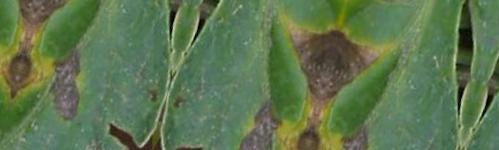Tomato Early blight leaf: (113, 0, 386, 150)
